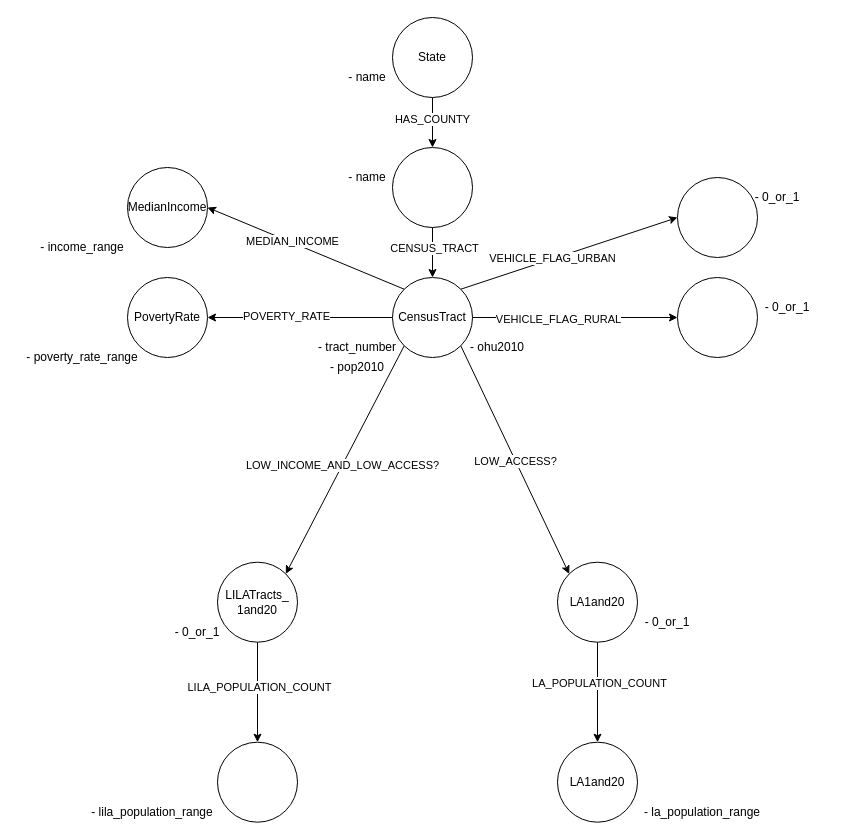
This 854x840 diagram has some shape labels left out. Each missing label, with the centre of its shape:
"County" goes at (x=432, y=187).
"HUNVFlag" goes at (x=717, y=217).
"LATracts Vehicle_20" goes at (x=717, y=317).
"LILOWI1_20" goes at (x=257, y=781).
